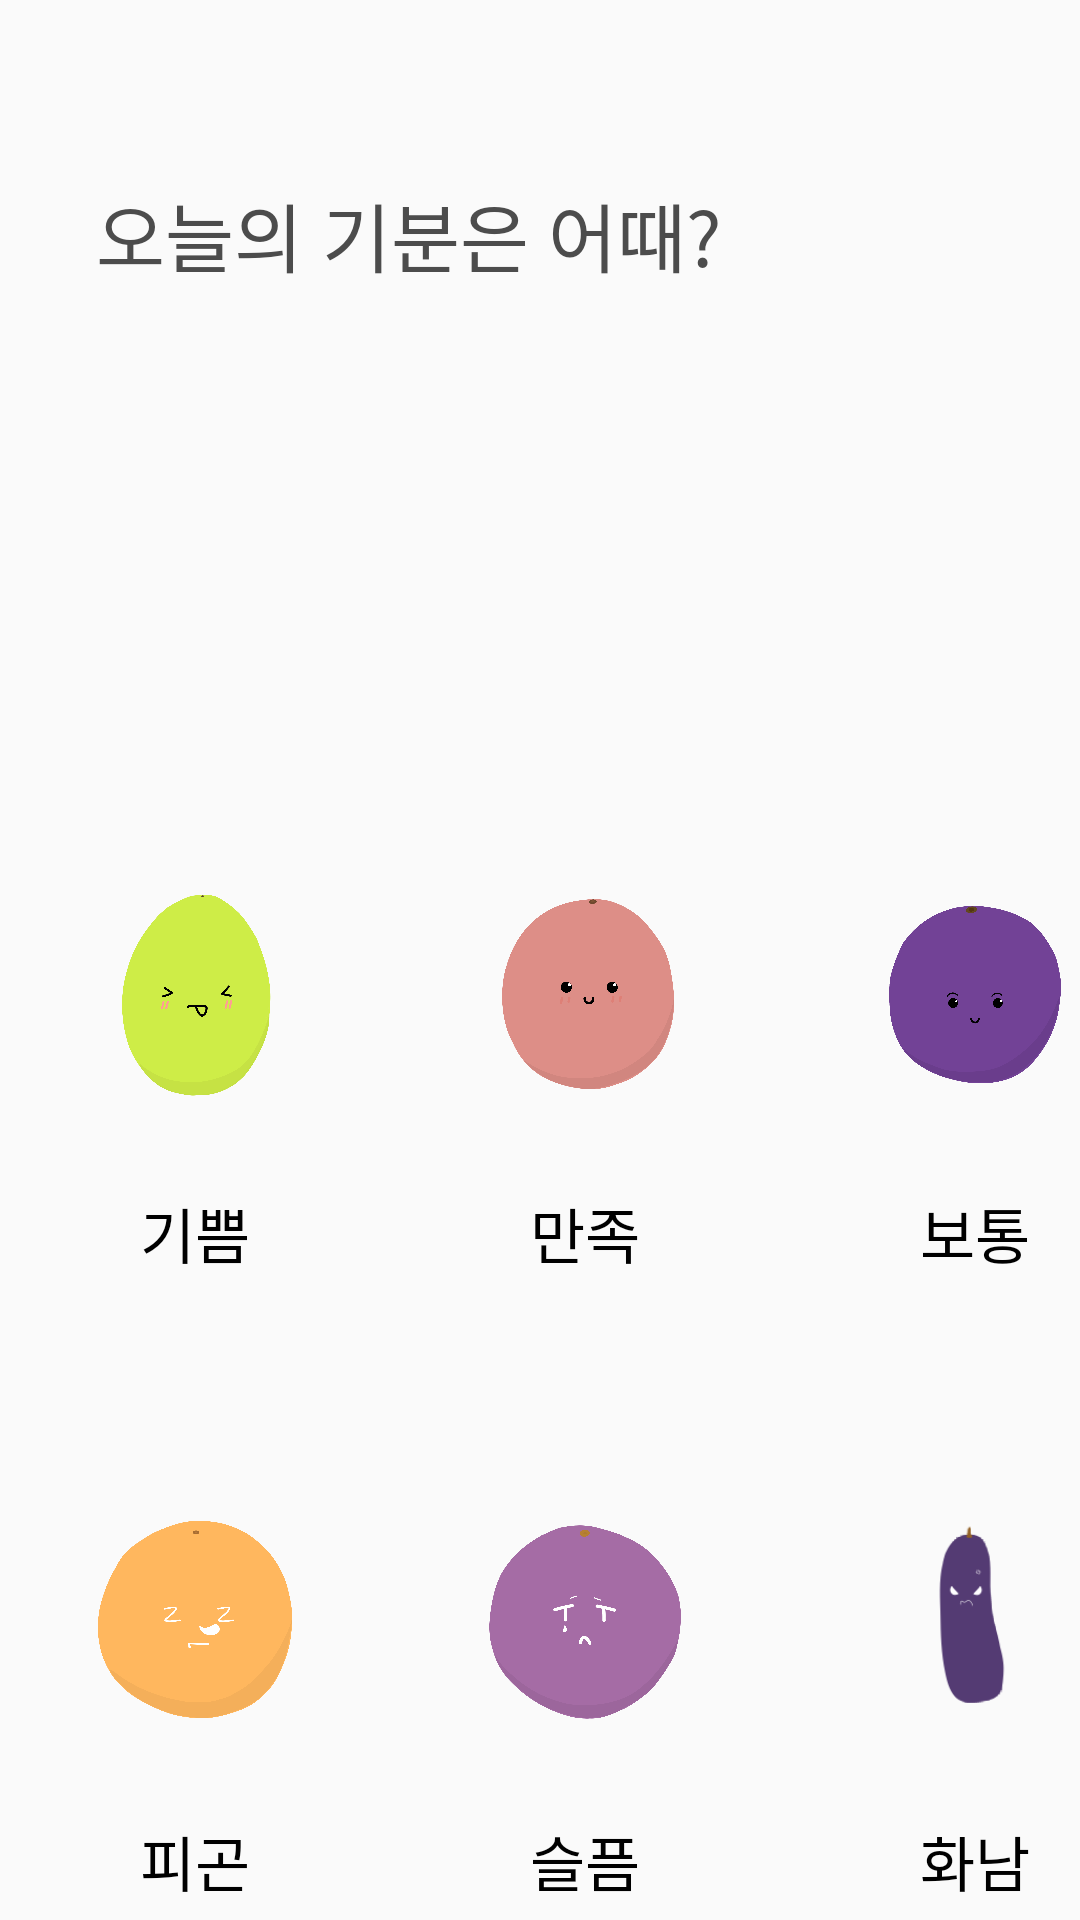

Where to tap for icons on this 1080x1920 app screen, as point (x, y):
grape happy: point (196, 995)
grape sad: point (585, 1622)
grape satis: point (588, 994)
grape usual: point (975, 994)
